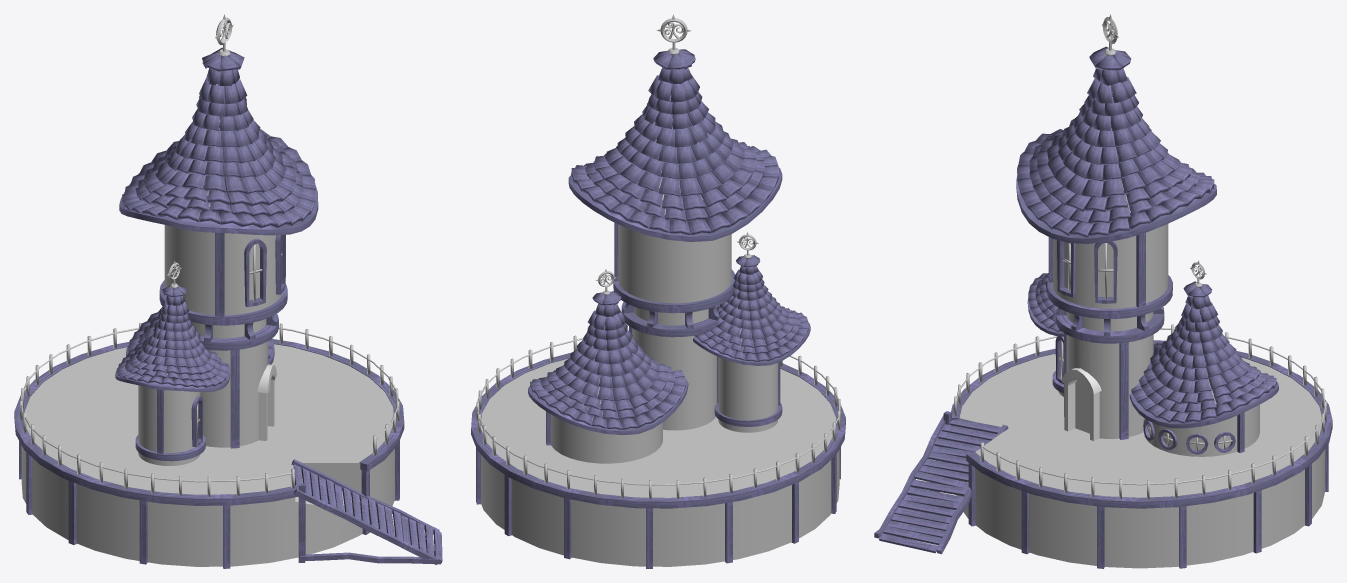
Rendered from kule2.fbx.
3 renders of one model, left to right at view 1: azimuth 30°, elevation 25°; view 2: azimuth 150°, elevation 25°; view 3: azimuth 270°, elevation 25°, orthographic. The views are drawn at different scales.
Visible parts, largest first — view 1: Cylinder.013, Cylinder.014, Plane.018, NurbsPath.001, Cylinder.012, Cylinder.001; view 2: Cylinder.013, Plane.018, Cylinder.014, NurbsPath.001; view 3: Cylinder.013, Plane.018, Cylinder.014, NurbsPath.001, Cylinder.012, Cube.075.
Part boxes in pixels (box(x1,y1,x2,y2)): Cylinder.013: box(21, 184, 394, 566); Cylinder.014: box(14, 173, 442, 568); Plane.018: box(117, 47, 316, 387); NurbsPath.001: box(20, 14, 399, 496); Cylinder.012: box(257, 364, 276, 440); Cylinder.001: box(244, 238, 266, 307); Cylinder.013: box(480, 170, 839, 566); Plane.018: box(530, 49, 808, 429); Cylinder.014: box(471, 165, 845, 568); NurbsPath.001: box(476, 14, 840, 499); Cylinder.013: box(956, 173, 1325, 568); Plane.018: box(1017, 46, 1276, 423); Cylinder.014: box(874, 151, 1332, 568); NurbsPath.001: box(954, 14, 1326, 499); Cylinder.012: box(1062, 368, 1101, 440); Cube.075: box(1075, 378, 1089, 433).
Size of the model in its own units: 19060 by 26277 by 22767.
